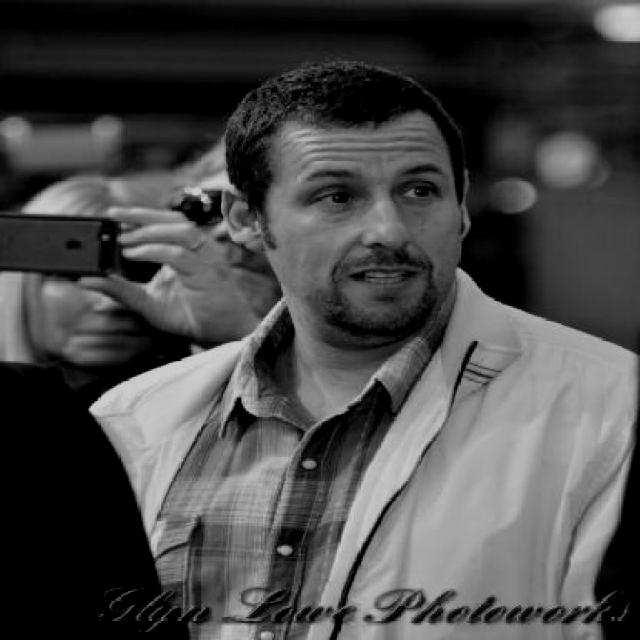fake: (14, 196, 146, 284)
